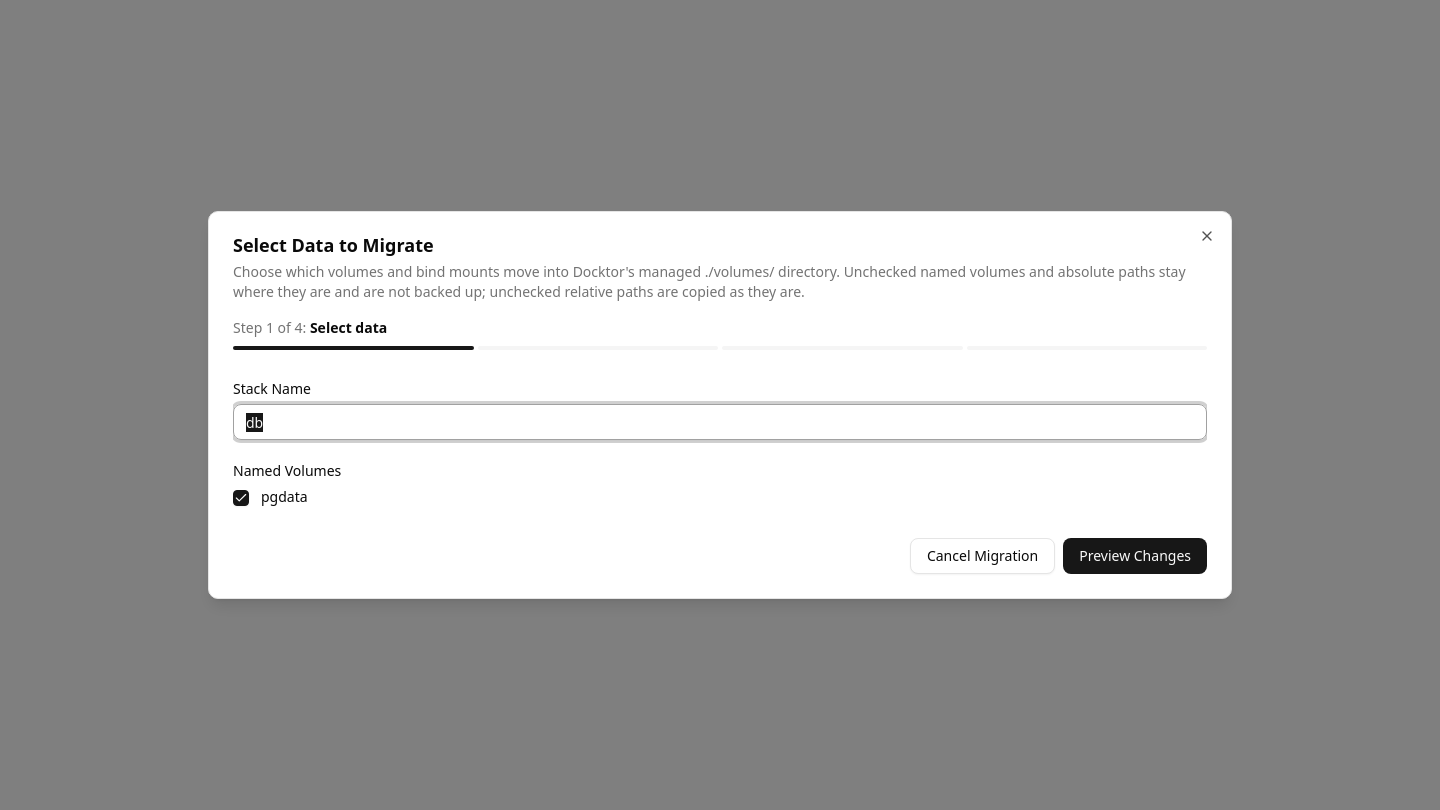
Test: MigrationWizard › disables the button and stays on step 1 while the preview is in flight
What coordinates should you click on to do the following:
click the button "Preview Changes"
I would click on:
 (1135, 556)
Its box is [1063,538,1207,574].
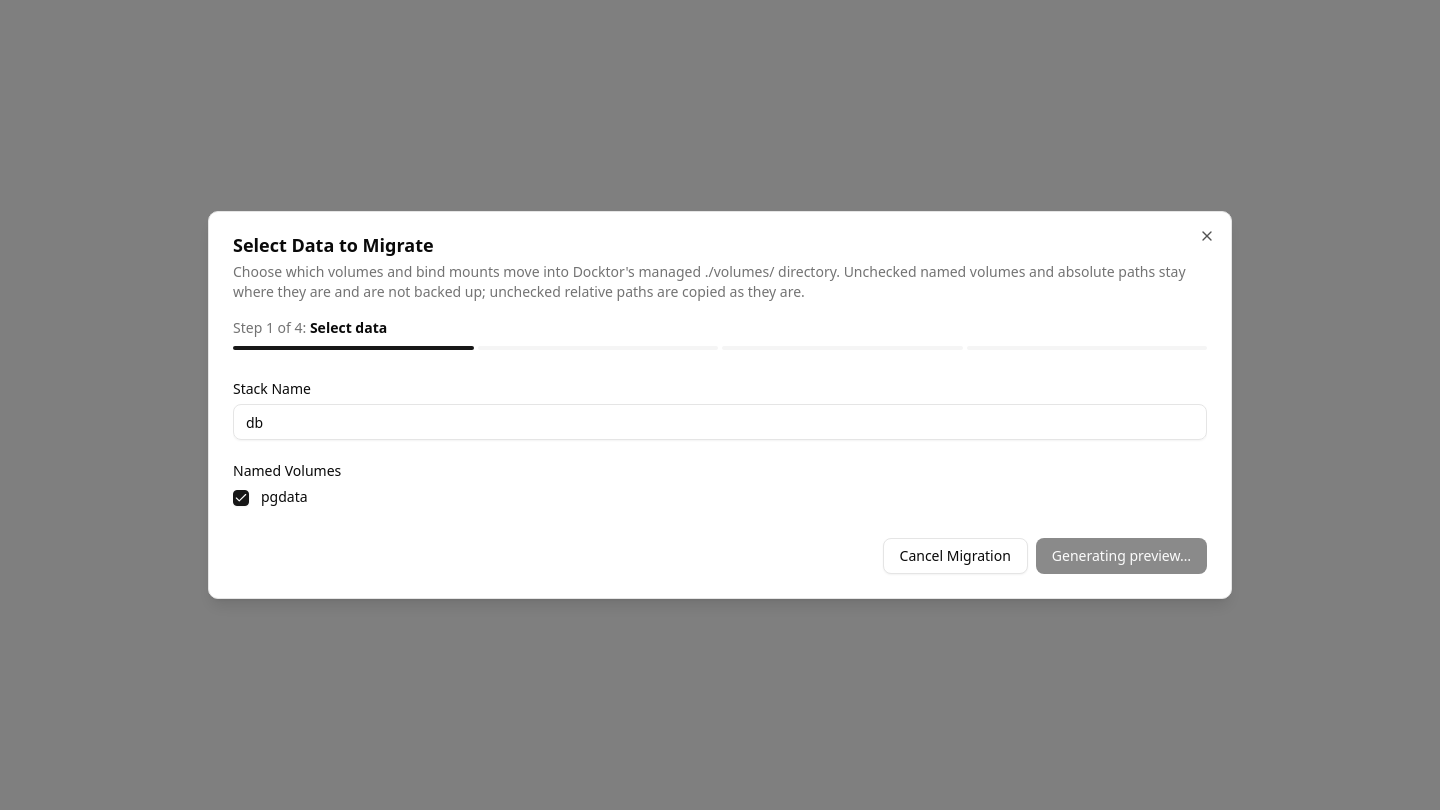
Expected: the heading "Select Data to Migrate" is shown, [233,233,434,257]
Expected: the button "Generating preview…" is disabled, [1036,538,1207,574]
